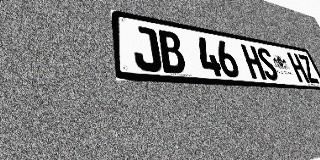4: (194, 36, 223, 77)
6: (213, 39, 241, 78)
B: (156, 29, 187, 74)
H: (240, 44, 267, 80), (286, 52, 310, 83)
J: (131, 25, 163, 72)
S: (255, 47, 280, 81)
Z: (297, 54, 320, 84)
